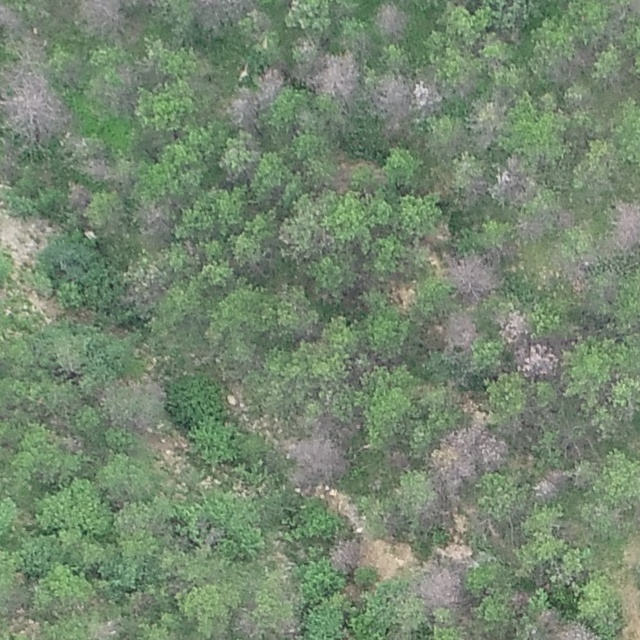unhealthy: (0, 63, 69, 140), (430, 422, 506, 482), (286, 423, 350, 484), (441, 251, 498, 303), (308, 49, 359, 101), (370, 71, 413, 132), (415, 564, 464, 607), (494, 156, 536, 203), (469, 96, 509, 140), (76, 0, 127, 34), (546, 46, 594, 82), (189, 0, 250, 28), (515, 341, 559, 378), (441, 309, 479, 350), (135, 198, 172, 238), (373, 1, 410, 39), (612, 201, 640, 251), (6, 29, 47, 62), (225, 89, 258, 130), (495, 308, 532, 344), (560, 256, 592, 294), (532, 467, 568, 500), (255, 66, 288, 101), (328, 535, 359, 572), (412, 77, 443, 113), (619, 583, 640, 633), (515, 213, 549, 242), (387, 280, 416, 312), (233, 606, 261, 638), (81, 156, 114, 183), (557, 620, 598, 640), (65, 181, 93, 210), (87, 619, 120, 640), (384, 447, 412, 471), (0, 2, 22, 32), (536, 607, 562, 632), (555, 207, 576, 228), (510, 589, 530, 609)
